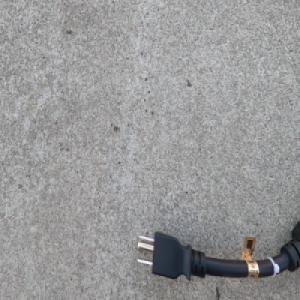Wire: (135, 218, 300, 282)
